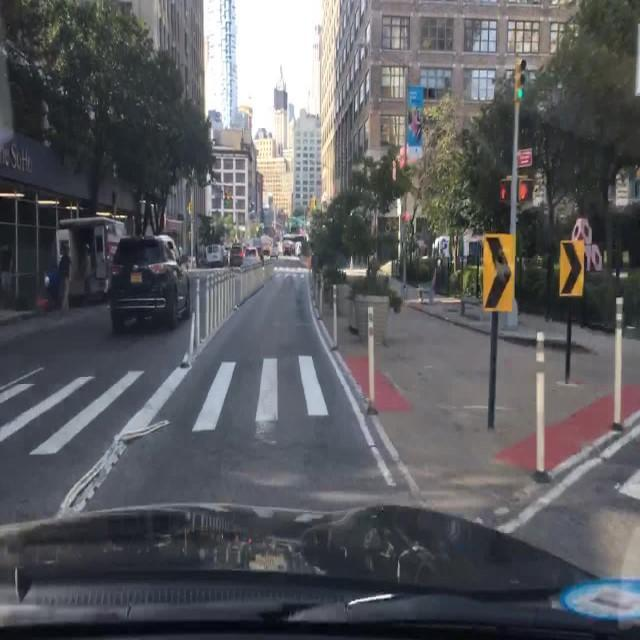normal: (107, 234, 193, 333)
